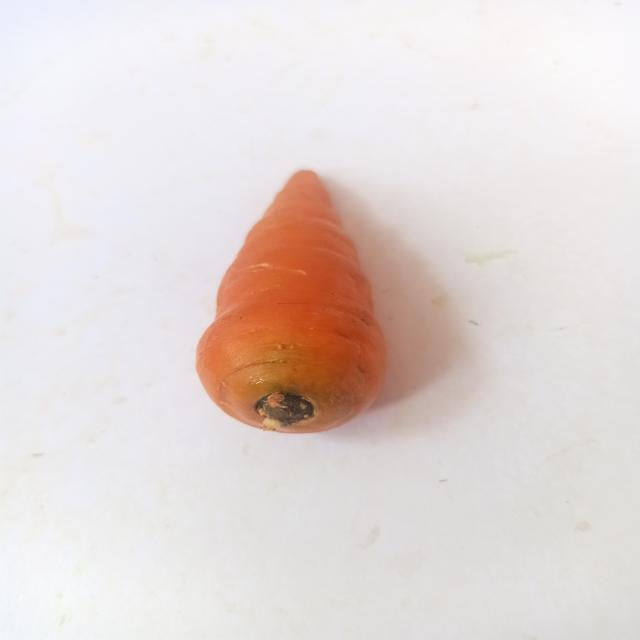Carrot: (162, 150, 427, 454)
